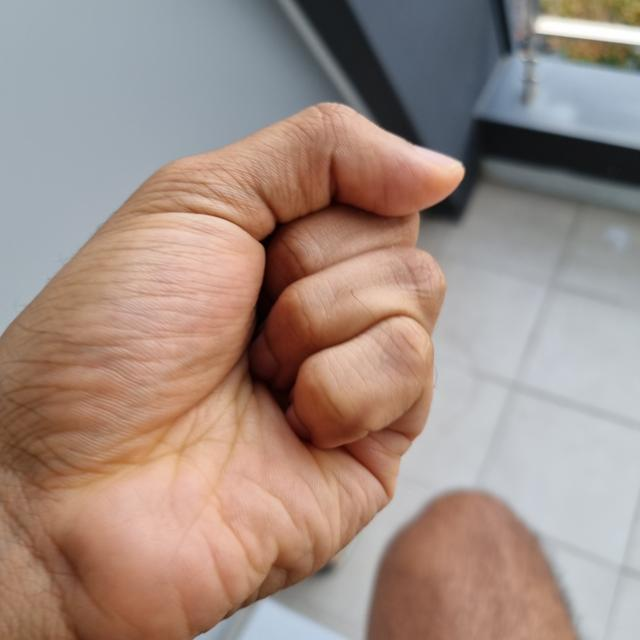Rock: (0, 103, 464, 639)
